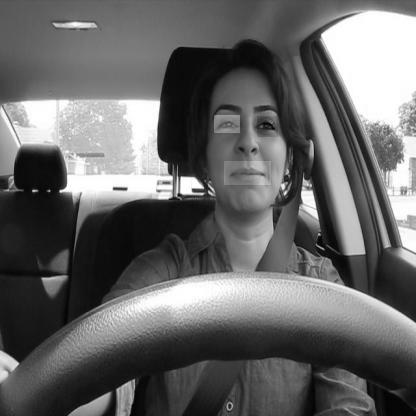seatbelt: (183, 33, 315, 416)
